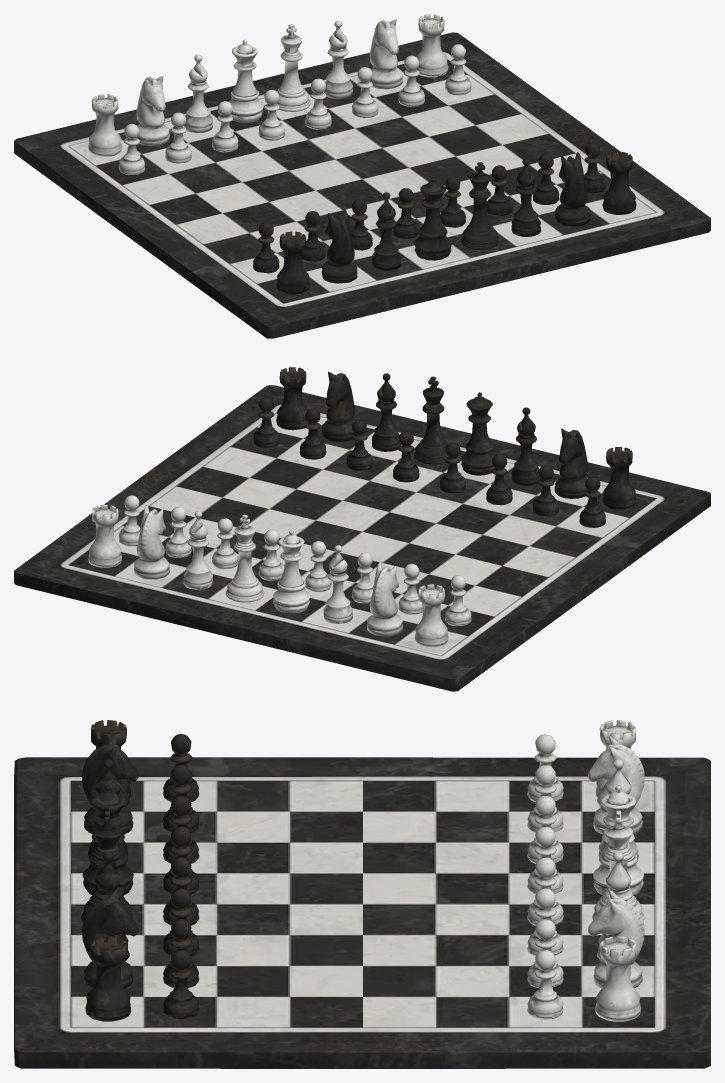
Rendered from chess_set.glb.
3 views of the same model, one above another, from view 1: azimuth 30°, elevation 25°; view 2: azimuth 150°, elevation 25°; view 3: azimuth 270°, elevation 25° (orthographic). The views are drawn at different scales.
Parts seen in each view (by area): view 1: board, piece_rook_black_01, piece_rook_white_01, piece_king_black, piece_king_white; view 2: board, piece_rook_white_01, piece_rook_black_01, piece_king_white, piece_king_black; view 3: board, piece_rook_white_01, piece_rook_black_01, piece_king_white, piece_king_black.
Part boxes in pixels (<box>): board: <box>14,32,710,338</box>; piece_rook_black_01: <box>253,142,636,294</box>; piece_rook_white_01: <box>88,14,471,174</box>; piece_king_black: <box>461,162,499,249</box>; piece_king_white: <box>276,24,310,111</box>; board: <box>14,385,710,691</box>; piece_rook_white_01: <box>88,495,471,647</box>; piece_rook_black_01: <box>253,367,636,527</box>; piece_king_white: <box>225,514,264,602</box>; piece_king_black: <box>414,376,447,464</box>; board: <box>14,757,710,1068</box>; piece_rook_white_01: <box>527,720,644,1021</box>; piece_rook_black_01: <box>82,720,199,1021</box>; piece_king_white: <box>592,810,644,920</box>; piece_king_black: <box>81,811,133,921</box>.
Bounding box in the file's own units: 0.5526 × 0.112 × 0.5526.
Materials: 3 (3 with a texture image).
